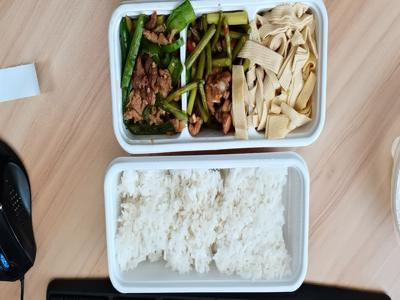cqj: (114, 8, 188, 140)
gdf: (244, 1, 326, 149)
rice: (114, 166, 311, 281)
st: (179, 3, 244, 144)
